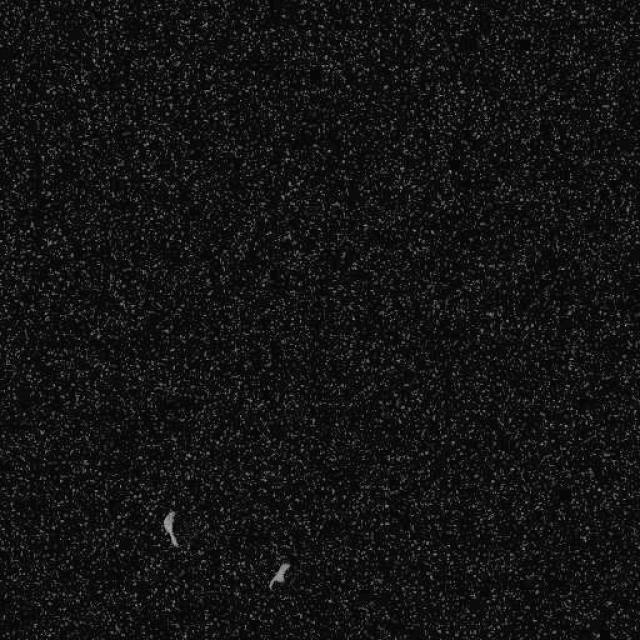D2: (268, 560, 292, 590), (161, 508, 179, 548)
